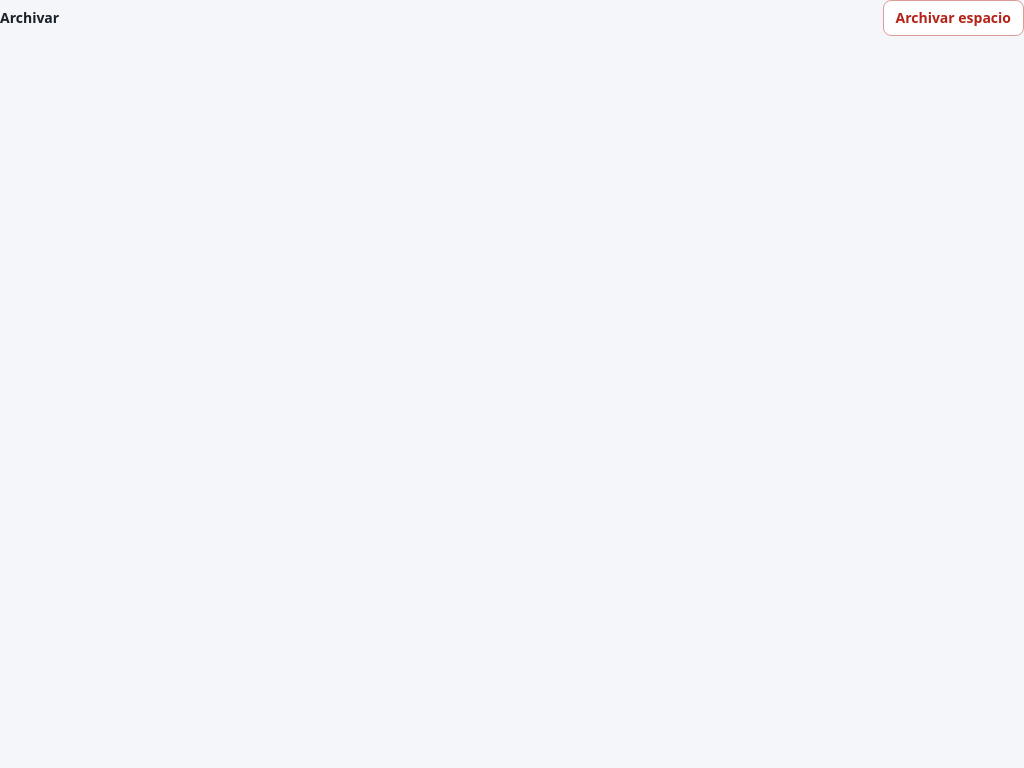
30 ZonaPeligro › si falla, lo dice y se queda abierto
Step 1. Click the button "Archivar espacio" → x=953, y=18, box [882,0,1023,36]
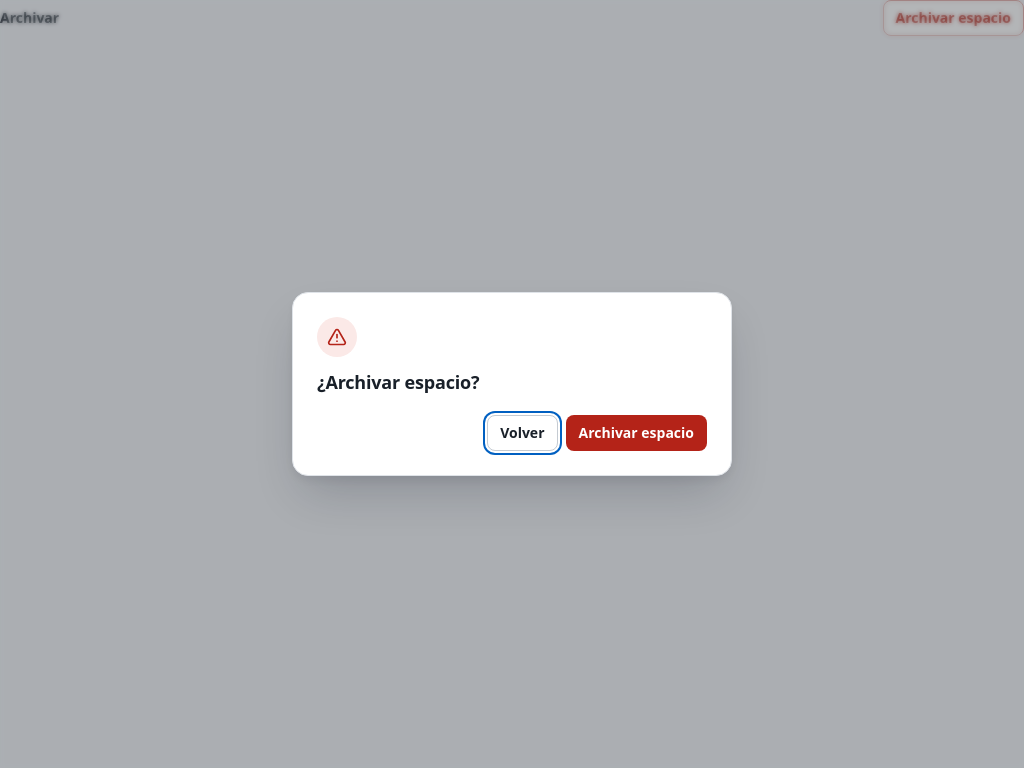
Step 2. Submit the form, box [293,293,731,475]
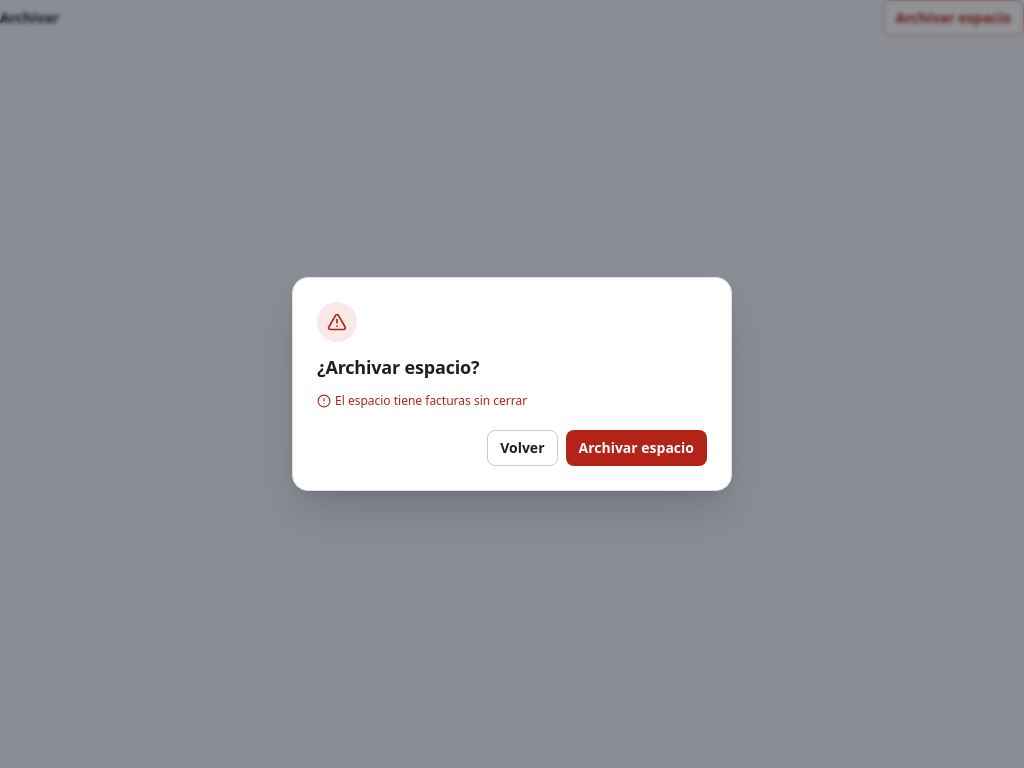
Expected: the message reads "El espacio tiene facturas sin cerrar", [335,392,527,409]
